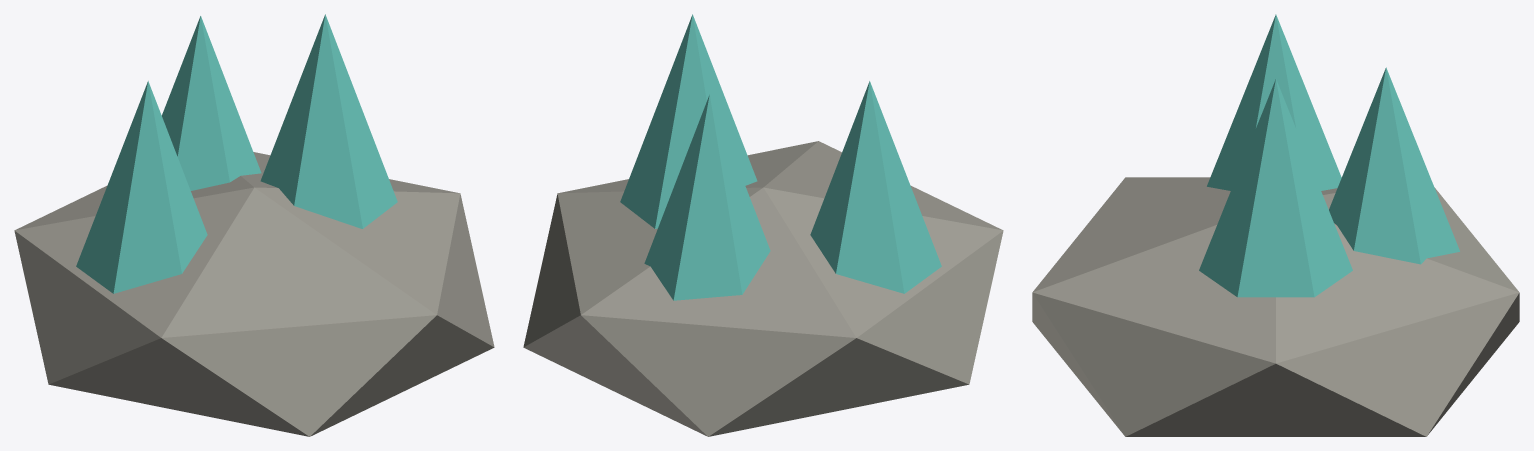
The model's file is board_geodo.glb.
The picture shows the model from 3 angles, left to right: view 1: azimuth 30°, elevation 25°; view 2: azimuth 150°, elevation 25°; view 3: azimuth 270°, elevation 25°; orthographic projection. The views are drawn at different scales.
Visible parts, largest first — view 1: board_geodo; view 2: board_geodo; view 3: board_geodo.
Part boxes in pixels (x1,y1,x2,y2): board_geodo: (14, 14, 494, 436); board_geodo: (523, 14, 1003, 436); board_geodo: (1032, 14, 1519, 436).
Bounding box in the file's own units: 3 × 2.5 × 3.
